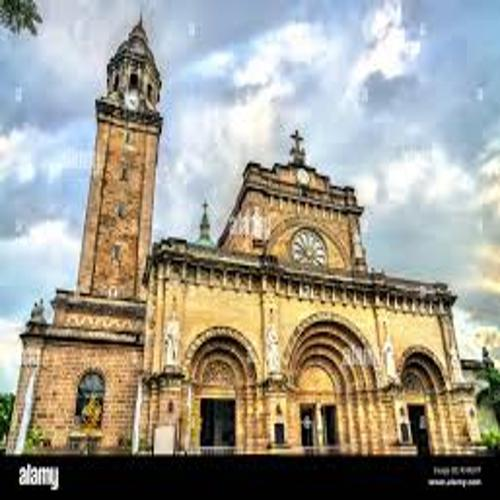Manila Cathedral Church: (22, 6, 478, 456)
